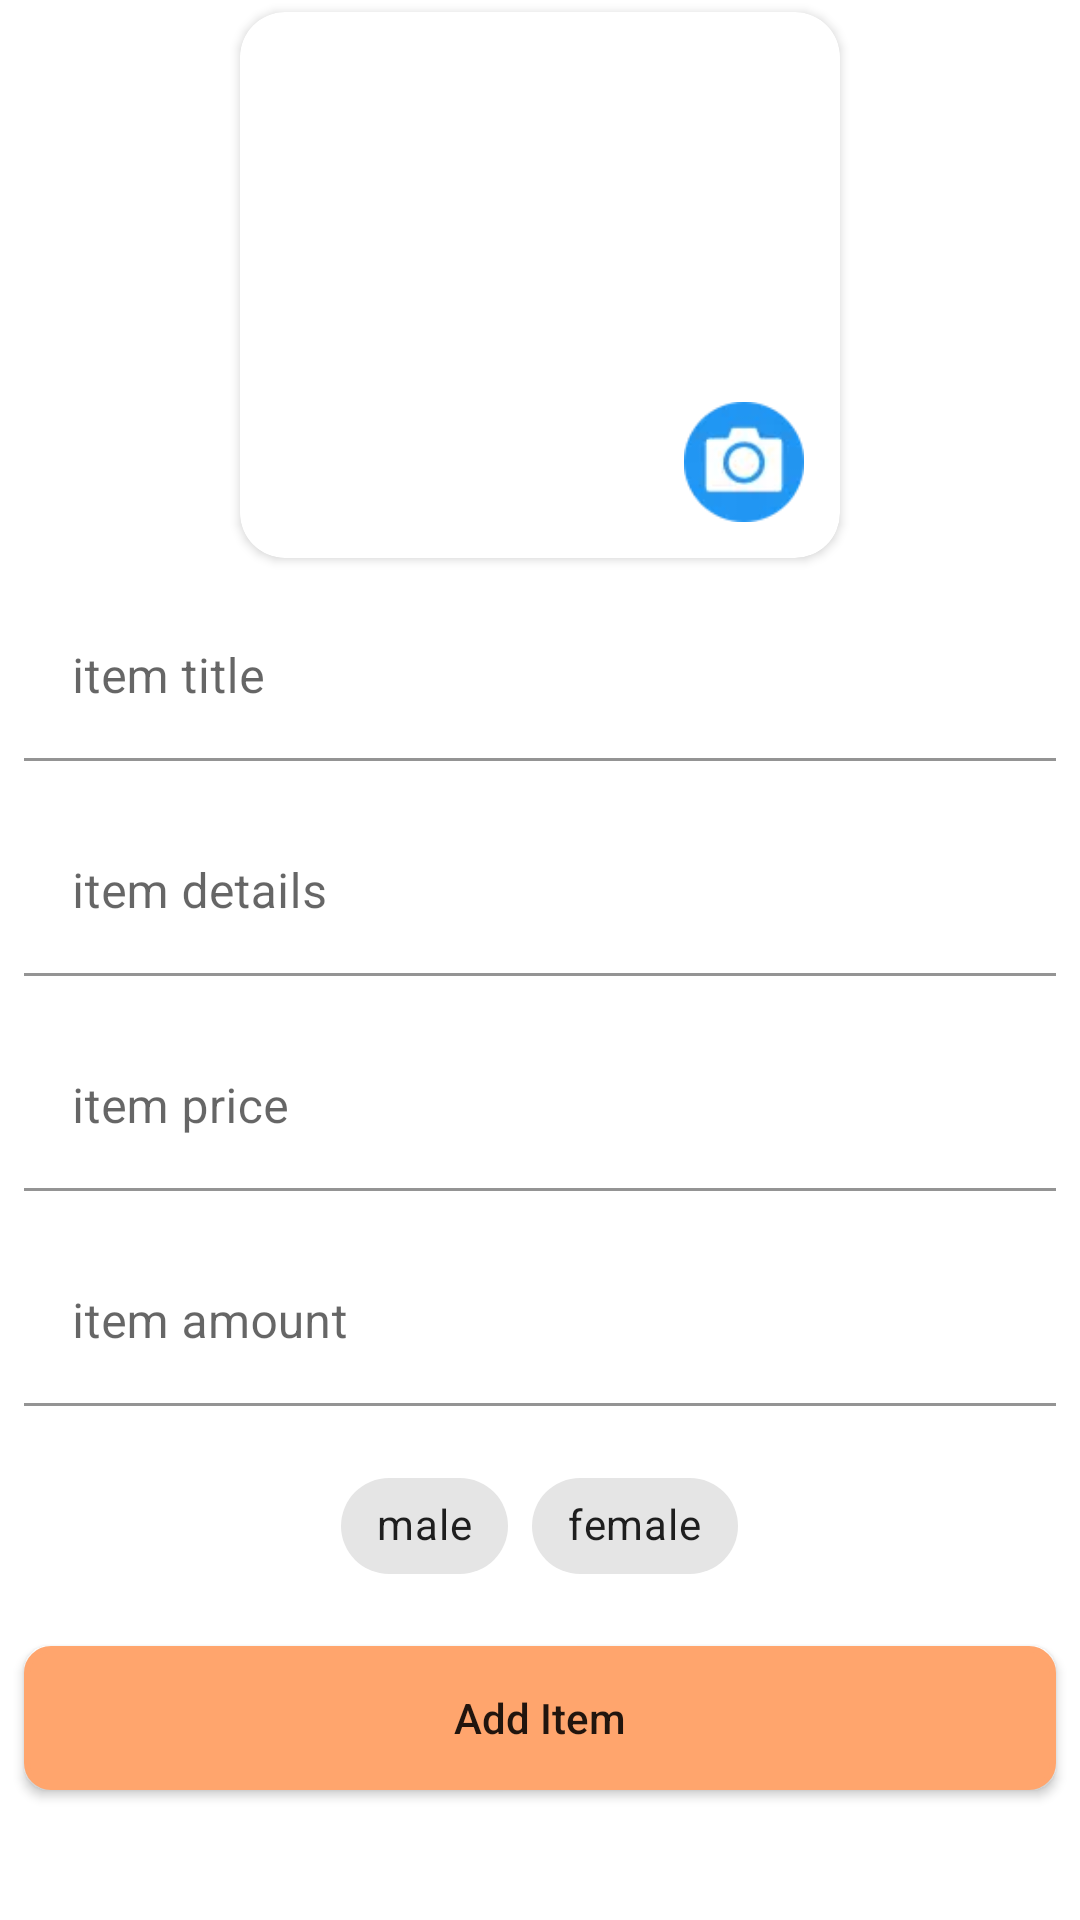

Point at icon controls on the screen. Image size 1080px x 1920px, points as [x,y].
camera: [744,462]
